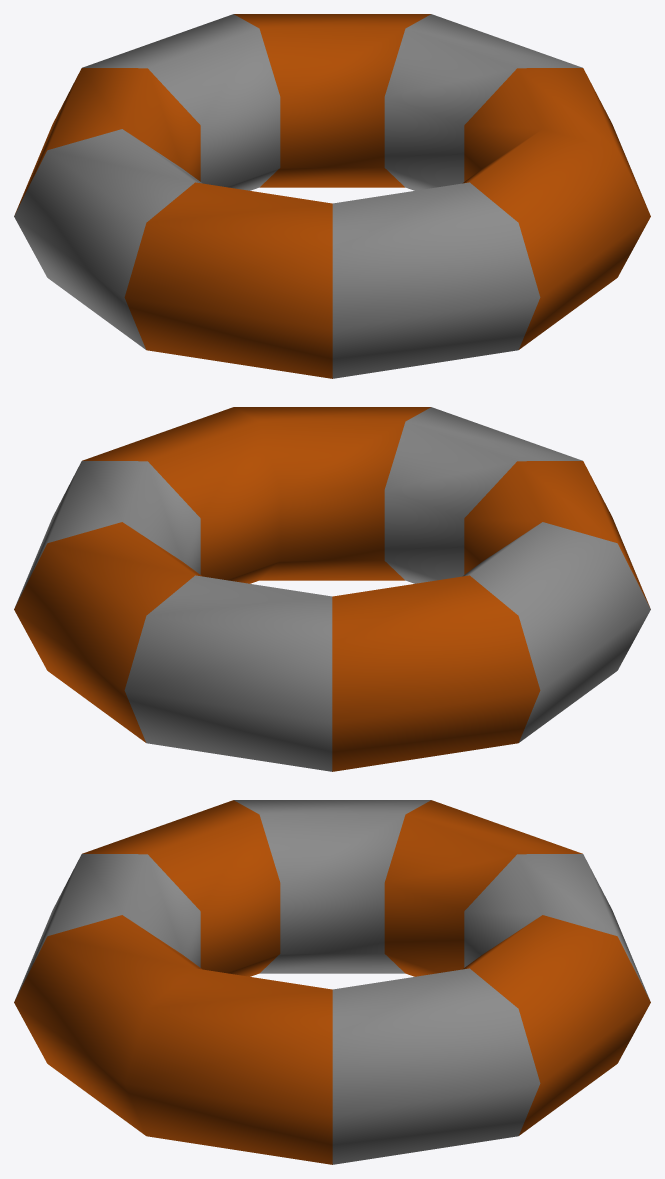
File: LifeSaver.fbx
3 renders of one model, top to bottom at view 1: azimuth 30°, elevation 25°; view 2: azimuth 150°, elevation 25°; view 3: azimuth 270°, elevation 25°, orthographic.
Parts seen in each view (by area): view 1: LifeSaver; view 2: LifeSaver; view 3: LifeSaver.
Boxes of the visible parts, <box> form: LifeSaver: <box>14,14,650,378</box>; LifeSaver: <box>14,407,650,771</box>; LifeSaver: <box>14,800,650,1164</box>.
Size of the model in its own units: 258 by 262 by 72.14.
